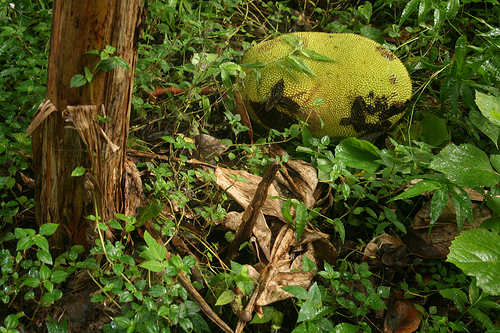jackfruit: (231, 30, 416, 150)
